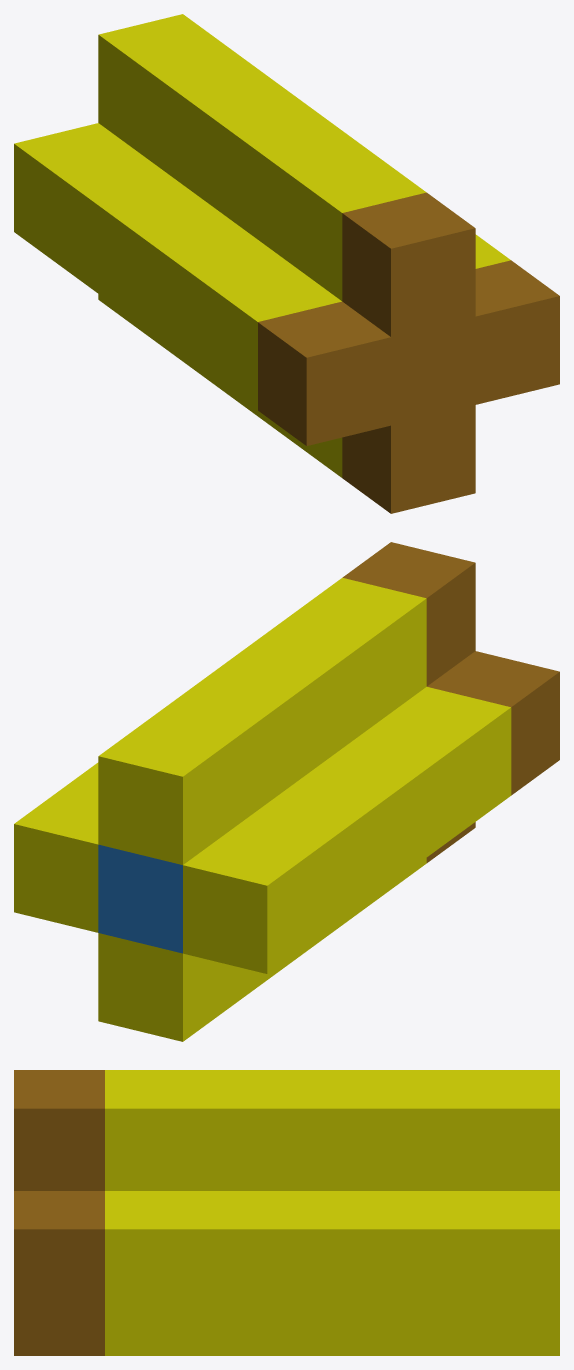
File: Casing.glb
The picture shows the model from 3 angles, top to bottom: view 1: azimuth 30°, elevation 25°; view 2: azimuth 150°, elevation 25°; view 3: azimuth 270°, elevation 25°; orthographic projection. The views are drawn at different scales.
Parts seen in each view (by area): view 1: Casing; view 2: Casing; view 3: Casing.
Part boxes in pixels (x1,y1,x2,y2): Casing: (14, 14, 559, 513); Casing: (14, 542, 559, 1041); Casing: (14, 1070, 559, 1355).
Size of the model in its own units: 3 by 3 by 6.
